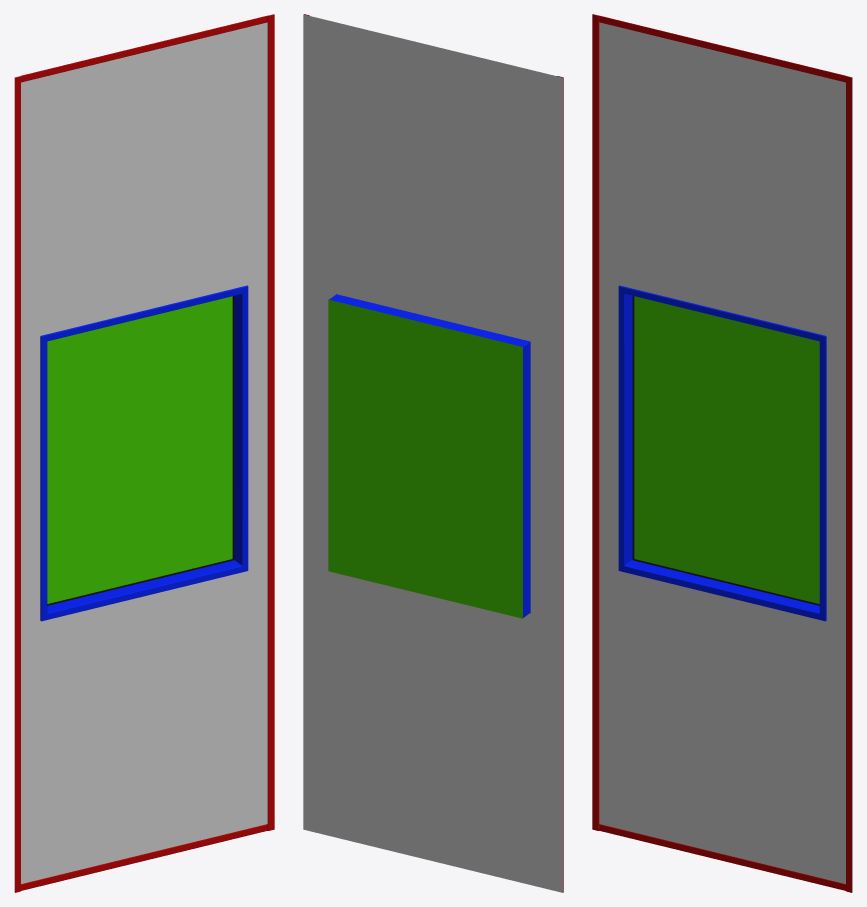
Rendered from Wall02cWindow.fbx.
3 views of the same model, side by side, from view 1: azimuth 30°, elevation 25°; view 2: azimuth 150°, elevation 25°; view 3: azimuth 330°, elevation 25° (orthographic).
Visible parts, largest first — view 1: Wall02cWindow; view 2: Wall02cWindow; view 3: Wall02cWindow.
Part boxes in pixels (<box>): Wall02cWindow: <box>14,14,274,892</box>; Wall02cWindow: <box>303,14,563,892</box>; Wall02cWindow: <box>592,14,852,892</box>.
Size of the model in its own units: 100 by 300 by 5.5.
